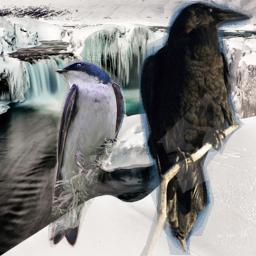Crow: (139, 1, 253, 256)
Swallow: (45, 59, 126, 248)
